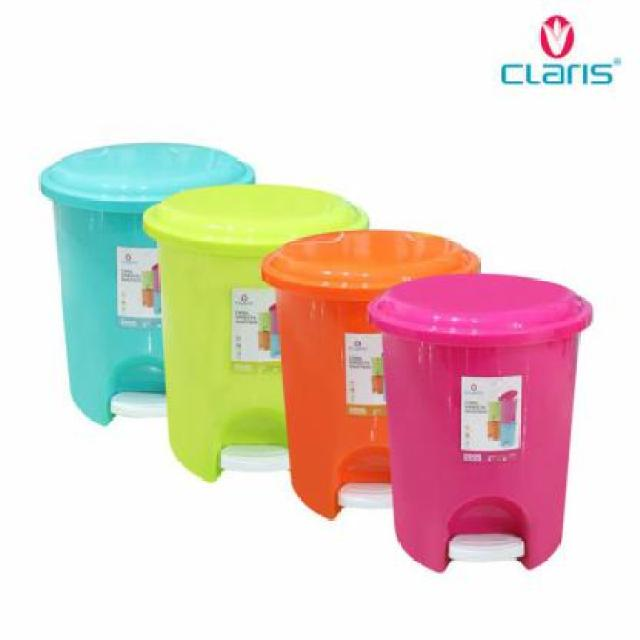garbage container: (362, 268, 600, 597), (134, 185, 260, 508), (33, 137, 162, 441), (258, 227, 389, 522)
